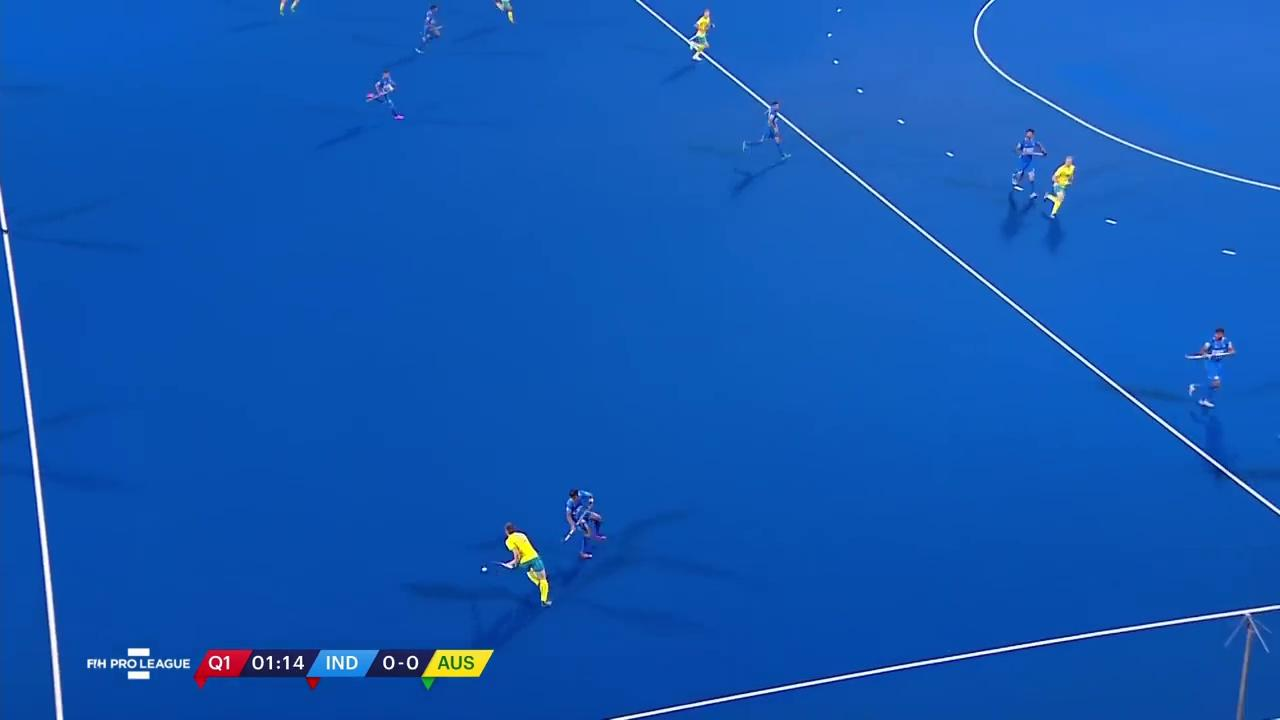ball: (476, 562, 491, 576)
